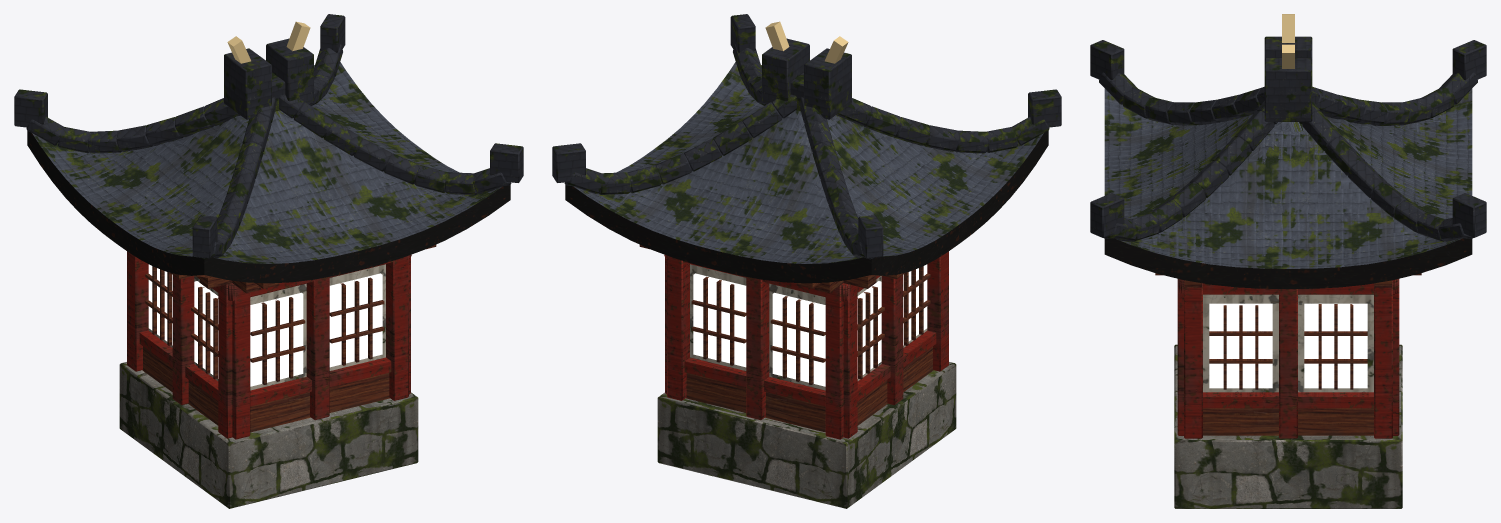
The model's file is Turret.fbx.
The picture shows the model from 3 angles, left to right: view 1: azimuth 30°, elevation 25°; view 2: azimuth 150°, elevation 25°; view 3: azimuth 270°, elevation 25°; orthographic projection. The views are drawn at different scales.
Parts seen in each view (by area): view 1: Turret_LOD0; view 2: Turret_LOD0; view 3: Turret_LOD0.
Boxes of the visible parts, x1,y1,x2,y2 form: Turret_LOD0: [14, 14, 523, 508]; Turret_LOD0: [552, 14, 1061, 508]; Turret_LOD0: [1090, 14, 1486, 508].
Size of what is drawn, in the model's own units: 6.25 by 7.52 by 6.25.
